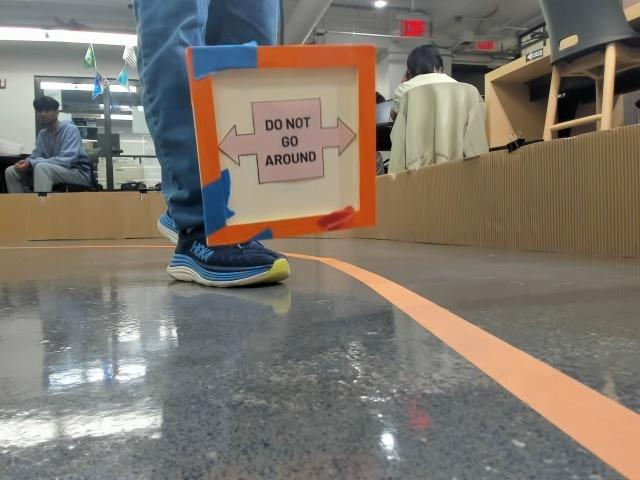Do Not Go Around: (217, 105, 353, 183)
